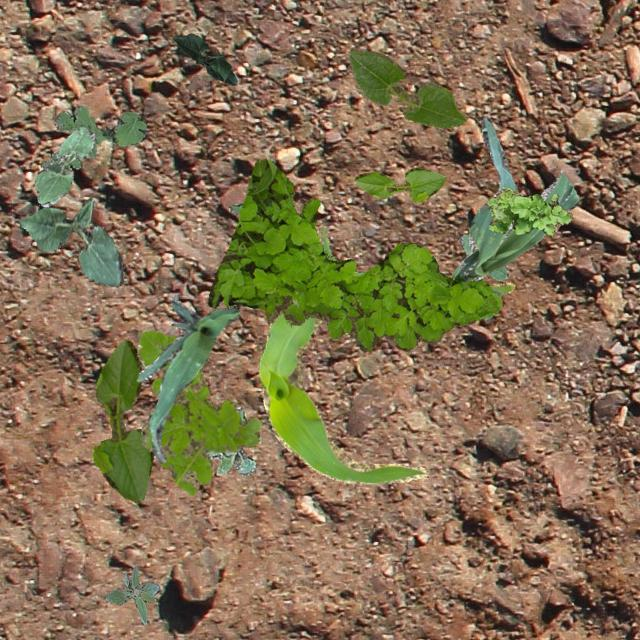crop: (257, 224, 514, 483), (449, 116, 578, 294), (136, 298, 240, 462), (91, 338, 152, 502), (18, 194, 122, 286), (348, 46, 466, 126), (34, 124, 94, 205), (172, 32, 236, 84), (354, 166, 444, 202), (458, 233, 508, 280)
weed: (208, 158, 500, 352), (136, 328, 262, 494), (40, 106, 146, 168), (486, 186, 572, 234), (206, 406, 256, 474), (102, 564, 158, 624), (227, 202, 241, 215)
